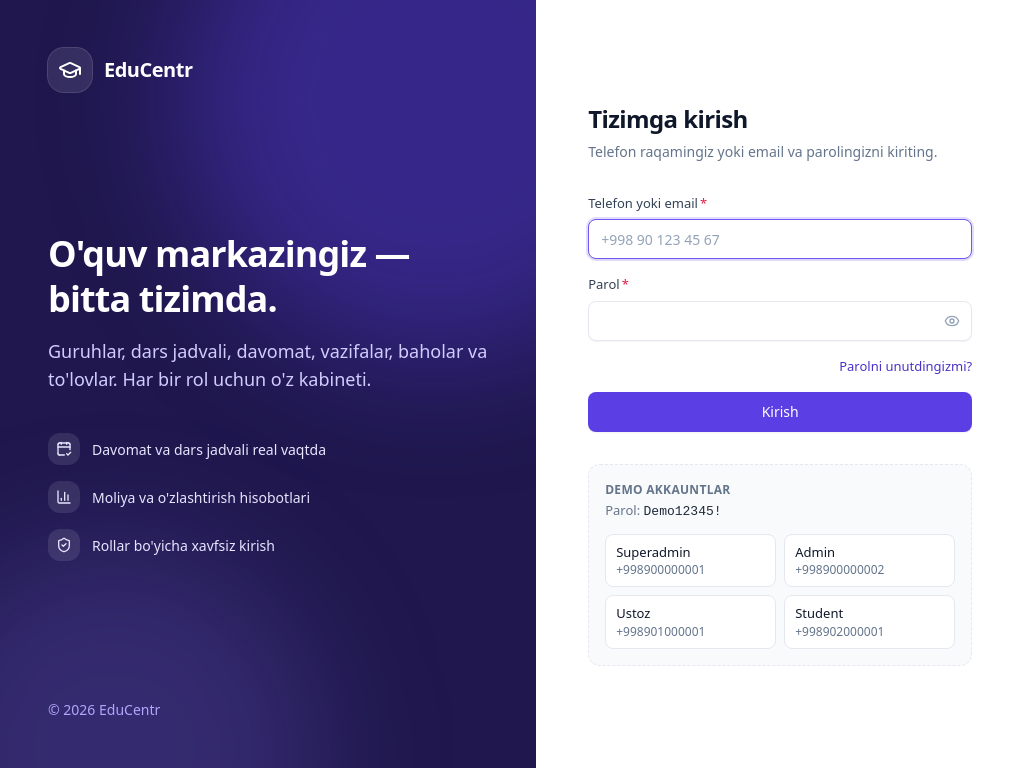
Scenario: validates required fields on the client
The width and height of the screenshot is (1024, 768).
Click the button "Kirish" at point(780, 412), box [588,392,972,432]
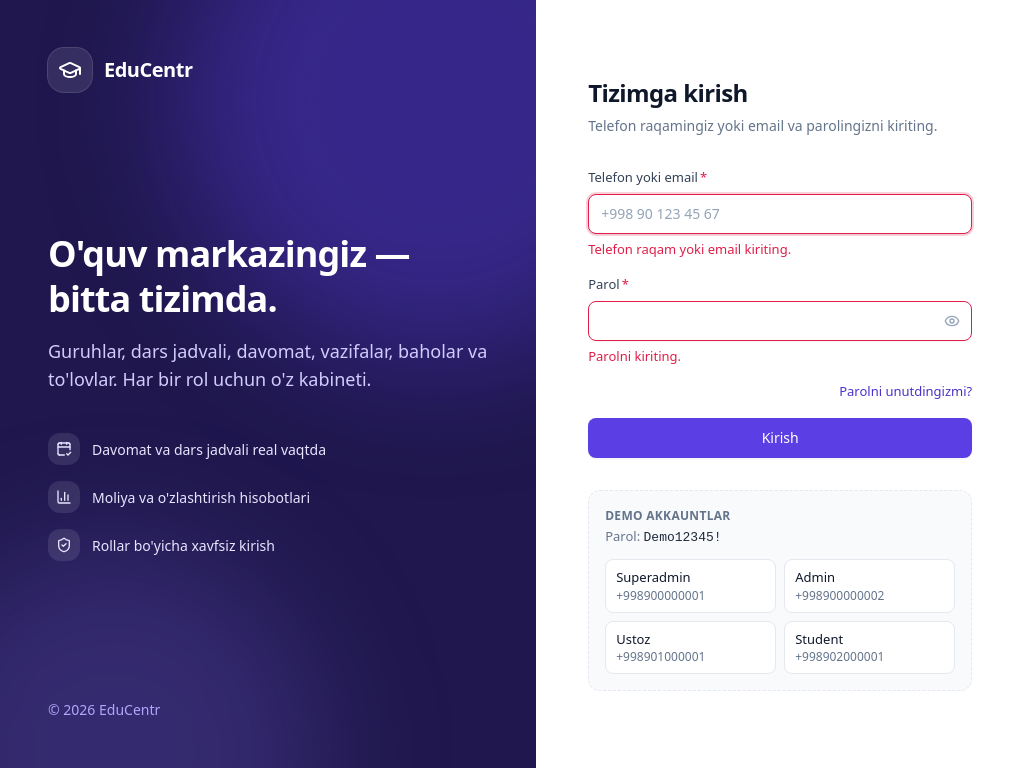
Result: the text "Telefon raqam yoki email kiriting." is shown at [588,240,791,258]
Result: the text "Parolni kiriting." is shown at [588,346,681,364]
